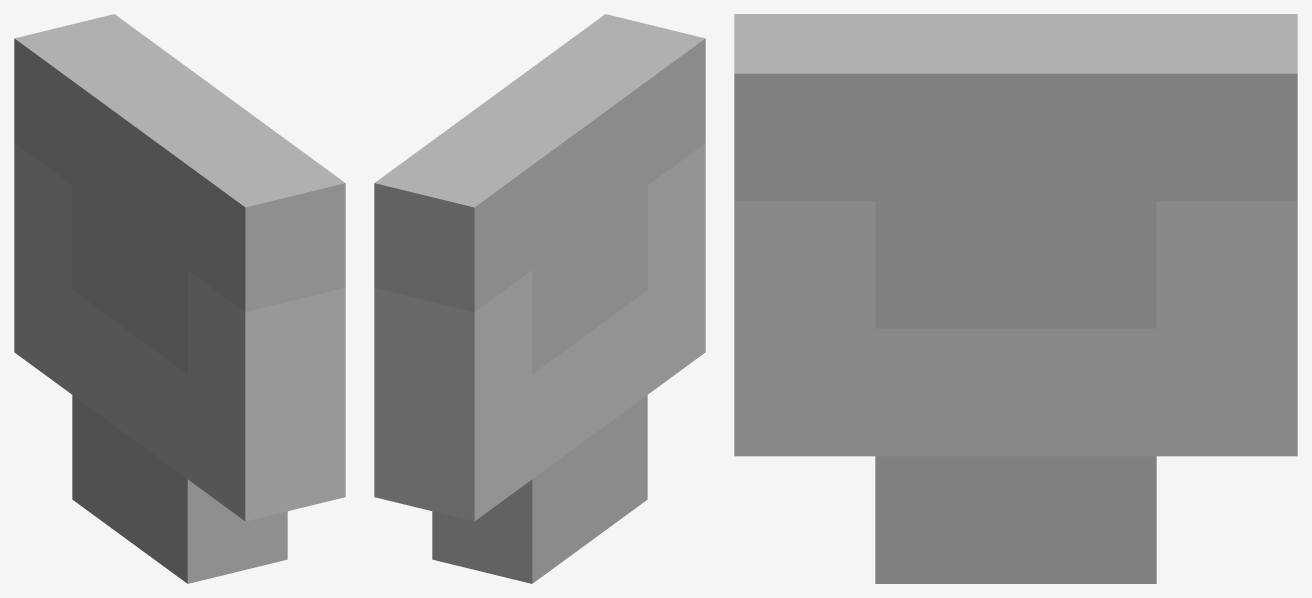
Rendered from Animals-11.obj.
3 views of the same model, side by side, from view 1: azimuth 30°, elevation 25°; view 2: azimuth 150°, elevation 25°; view 3: azimuth 270°, elevation 25° (orthographic). The views are drawn at different scales.
Bounding box in the file's own units: 0.1 × 0.4 × 0.4.
Materials: 1 (1 with a texture image).
